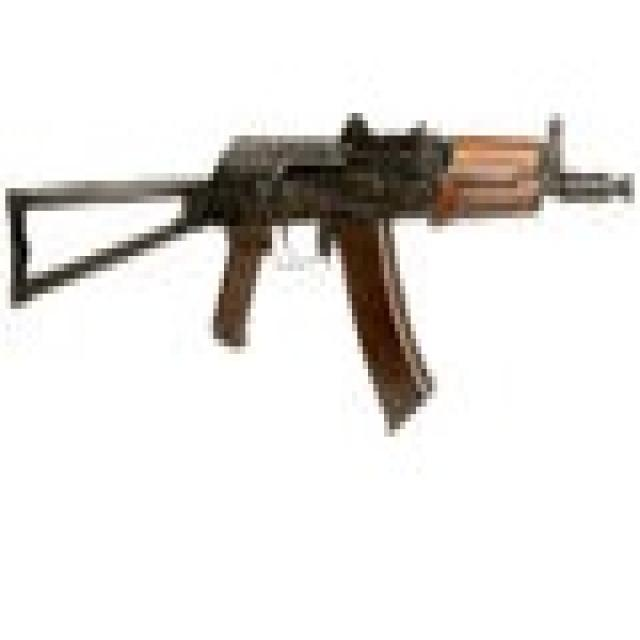Gun: (126, 98, 620, 423)
